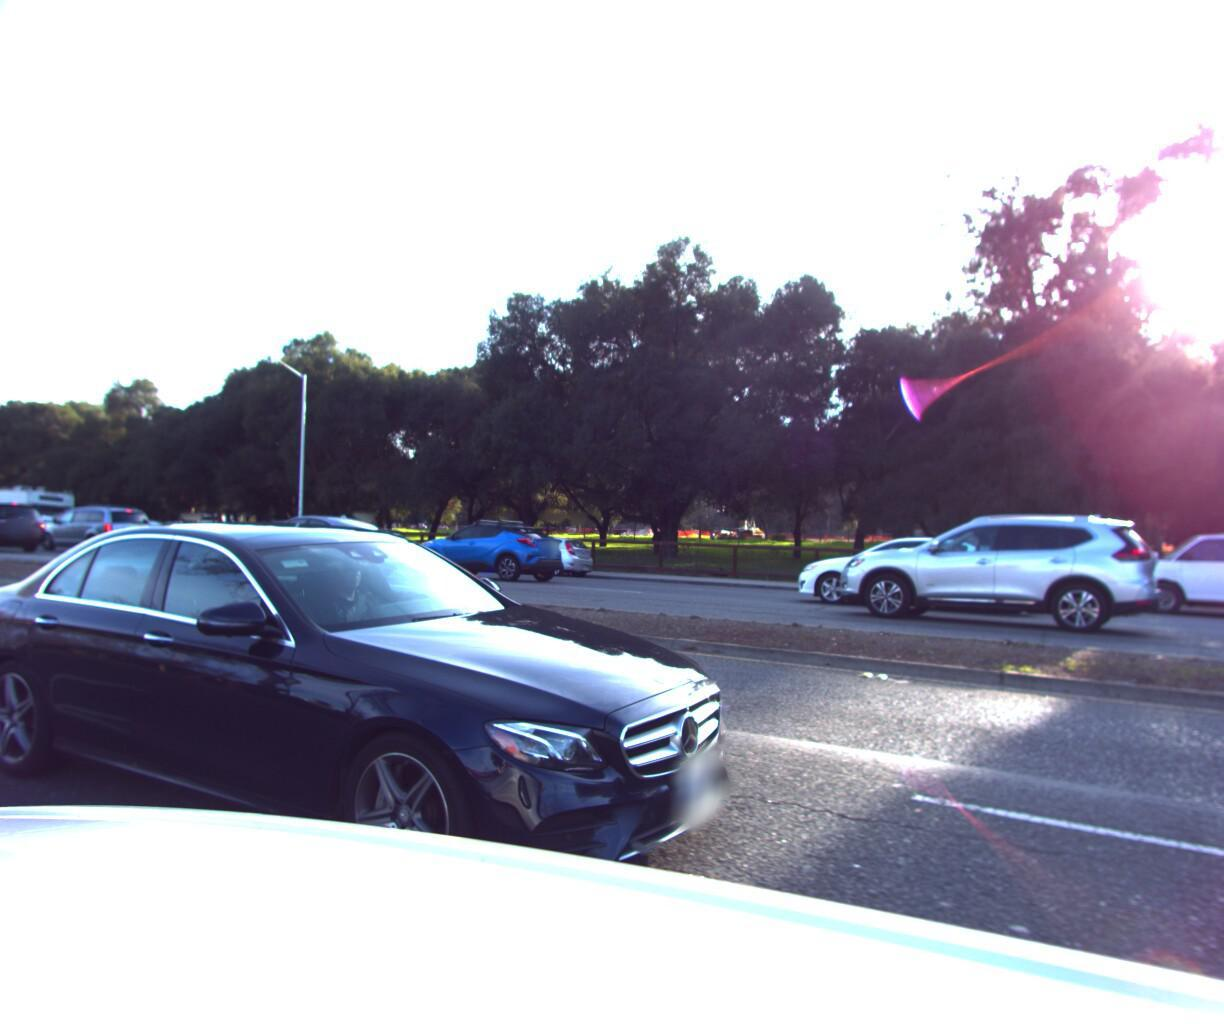bus: (0, 491, 2, 546)
car: (0, 516, 761, 974), (834, 505, 1171, 637), (786, 529, 1051, 616), (222, 513, 418, 582), (412, 518, 579, 589), (1124, 516, 1224, 633), (35, 509, 162, 559), (474, 533, 599, 582), (233, 521, 345, 566), (91, 519, 195, 560), (134, 523, 225, 558), (0, 505, 53, 559)
other_vehicle: (0, 488, 80, 550)
